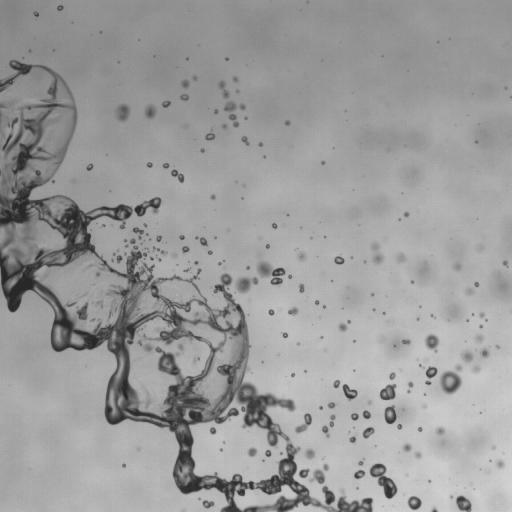droplet: (256, 260, 285, 285), (440, 364, 461, 394), (235, 276, 258, 293), (309, 464, 328, 484), (424, 334, 439, 352), (380, 384, 396, 400), (384, 405, 397, 424), (342, 384, 357, 400), (456, 495, 471, 511), (116, 104, 129, 121), (425, 366, 437, 384), (407, 496, 421, 511), (144, 104, 156, 118), (92, 297, 104, 309), (362, 427, 374, 438), (132, 227, 143, 238), (461, 351, 472, 362), (305, 448, 315, 459), (354, 469, 365, 478), (202, 500, 214, 508), (297, 251, 306, 261), (247, 447, 257, 456), (480, 348, 489, 357), (362, 410, 371, 419), (205, 132, 215, 140), (334, 256, 344, 264), (288, 307, 298, 315), (397, 253, 405, 262), (475, 334, 483, 343), (402, 443, 411, 451), (181, 80, 189, 88), (199, 237, 207, 245), (338, 323, 346, 331), (192, 355, 200, 363), (496, 460, 504, 468), (241, 136, 248, 145), (465, 288, 474, 295), (333, 380, 340, 388), (350, 413, 358, 420), (436, 427, 444, 434), (182, 246, 189, 253), (454, 263, 461, 270), (180, 94, 188, 100), (162, 101, 170, 107), (116, 255, 122, 262), (472, 366, 479, 372), (389, 372, 395, 379), (328, 402, 335, 408), (349, 436, 356, 442), (414, 452, 421, 458), (299, 284, 304, 292), (402, 339, 410, 344), (47, 133, 53, 139), (86, 164, 92, 170), (268, 309, 274, 315), (265, 450, 271, 456), (238, 104, 245, 109), (210, 427, 215, 434), (57, 5, 63, 10), (163, 163, 169, 168), (156, 235, 161, 241), (502, 260, 507, 266), (479, 312, 484, 318), (358, 459, 363, 465), (147, 162, 152, 167), (404, 212, 409, 217), (272, 223, 277, 228), (282, 332, 287, 337), (397, 424, 402, 429), (285, 120, 289, 125), (211, 194, 215, 199), (179, 235, 184, 239), (478, 246, 483, 250), (34, 12, 38, 16), (233, 77, 237, 81), (214, 109, 218, 113), (200, 148, 204, 152), (208, 250, 212, 254), (185, 268, 189, 272), (474, 282, 478, 286), (315, 300, 319, 304), (418, 427, 422, 431), (223, 124, 226, 128), (266, 244, 269, 248), (172, 254, 176, 257), (194, 261, 198, 264), (88, 264, 92, 267), (288, 274, 291, 278), (431, 314, 434, 318), (420, 365, 424, 368), (193, 77, 196, 80), (259, 143, 262, 146), (218, 261, 221, 264), (246, 266, 249, 269), (83, 293, 86, 296), (347, 320, 350, 323), (291, 373, 294, 376), (492, 446, 495, 449), (322, 161, 324, 164), (125, 241, 127, 244), (150, 257, 153, 259), (479, 325, 482, 327), (297, 342, 299, 345), (496, 346, 499, 348), (368, 401, 371, 403), (423, 404, 425, 407), (319, 407, 322, 409), (122, 464, 125, 466), (144, 224, 146, 226), (411, 281, 413, 283), (450, 495, 452, 497), (198, 498, 200, 500)
ligament: (0, 60, 373, 511), (369, 463, 397, 498), (224, 101, 238, 127), (295, 413, 311, 433), (322, 414, 335, 437), (371, 242, 383, 264), (219, 81, 229, 98), (171, 169, 184, 182), (153, 247, 167, 255), (407, 382, 413, 392), (43, 270, 49, 278), (430, 507, 438, 511), (156, 256, 160, 261)
